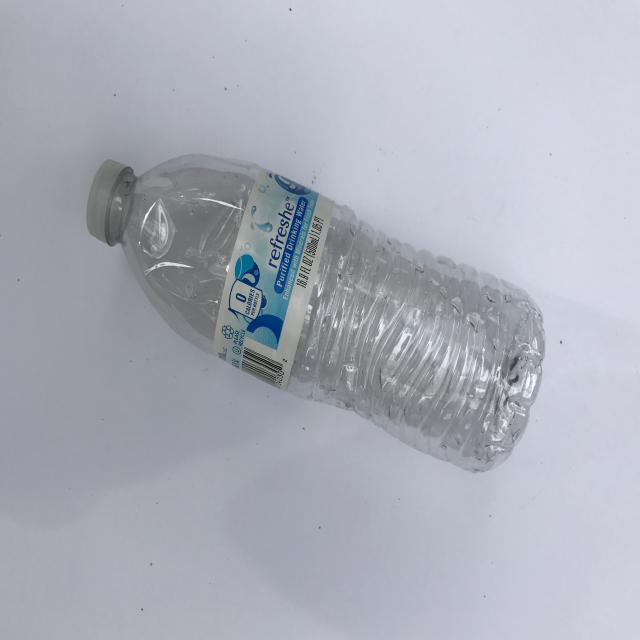plastic: (85, 152, 546, 473)
